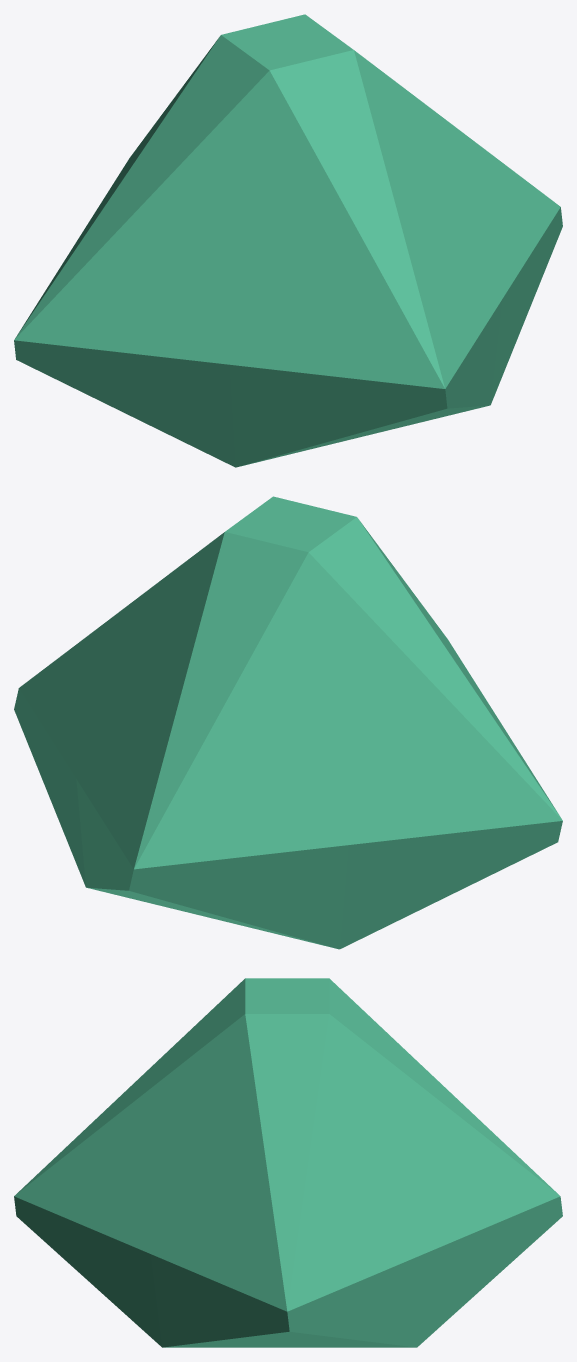
File: pepperStemCollider.obj
3 views of the same model, one above another, from view 1: azimuth 30°, elevation 25°; view 2: azimuth 150°, elevation 25°; view 3: azimuth 270°, elevation 25° (orthographic). The views are drawn at different scales.
Parts seen in each view (by area): view 1: paprika.001; view 2: paprika.001; view 3: paprika.001.
Boxes of the visible parts, box(x1,y1,x2,y2) form: paprika.001: box(14, 14, 562, 467); paprika.001: box(14, 496, 562, 949); paprika.001: box(14, 978, 562, 1347).
Bounding box in the file's own units: 0.0469 × 0.0279 × 0.0468.
